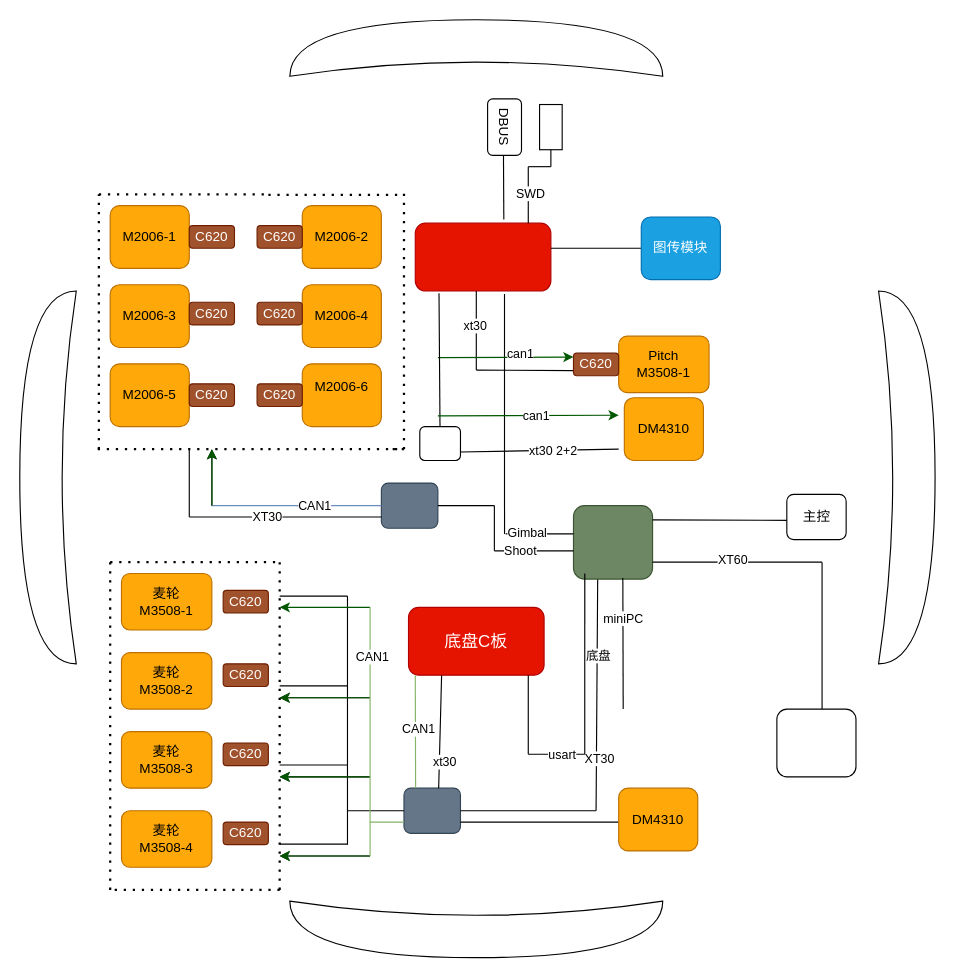
Some shapes in this 955 by 977 pixel diagram are drawn without their labels. Each missing label, with the centre of its shape:
"Jlink" goes at pixel 550 126.
"云台C板" goes at pixel 482 256.
"分电板1" goes at pixel 431 810.
"分电板2" goes at pixel 409 505.
"分电板3" goes at pixel 439 442.
"电池组" goes at pixel 816 742.
"电源控制 模块" goes at pixel 612 542.
